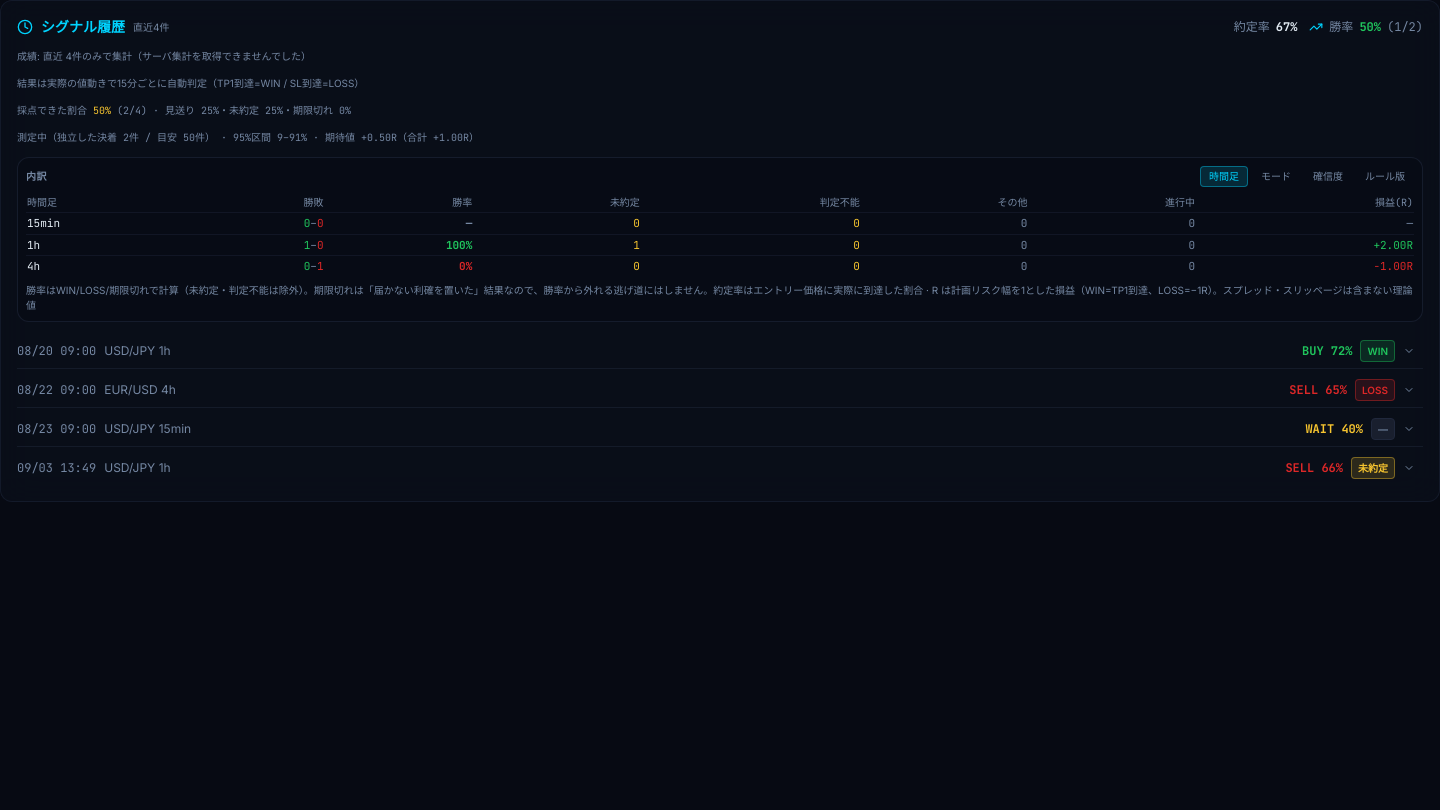
Scenario: AnalysisHistory (DB records) › does not promise a judgement for a WAIT row
Click the button "08/23 09:00 USD/JPY 15min WAIT 40% —".
click(57, 428)  # box [13,412,1419,446]
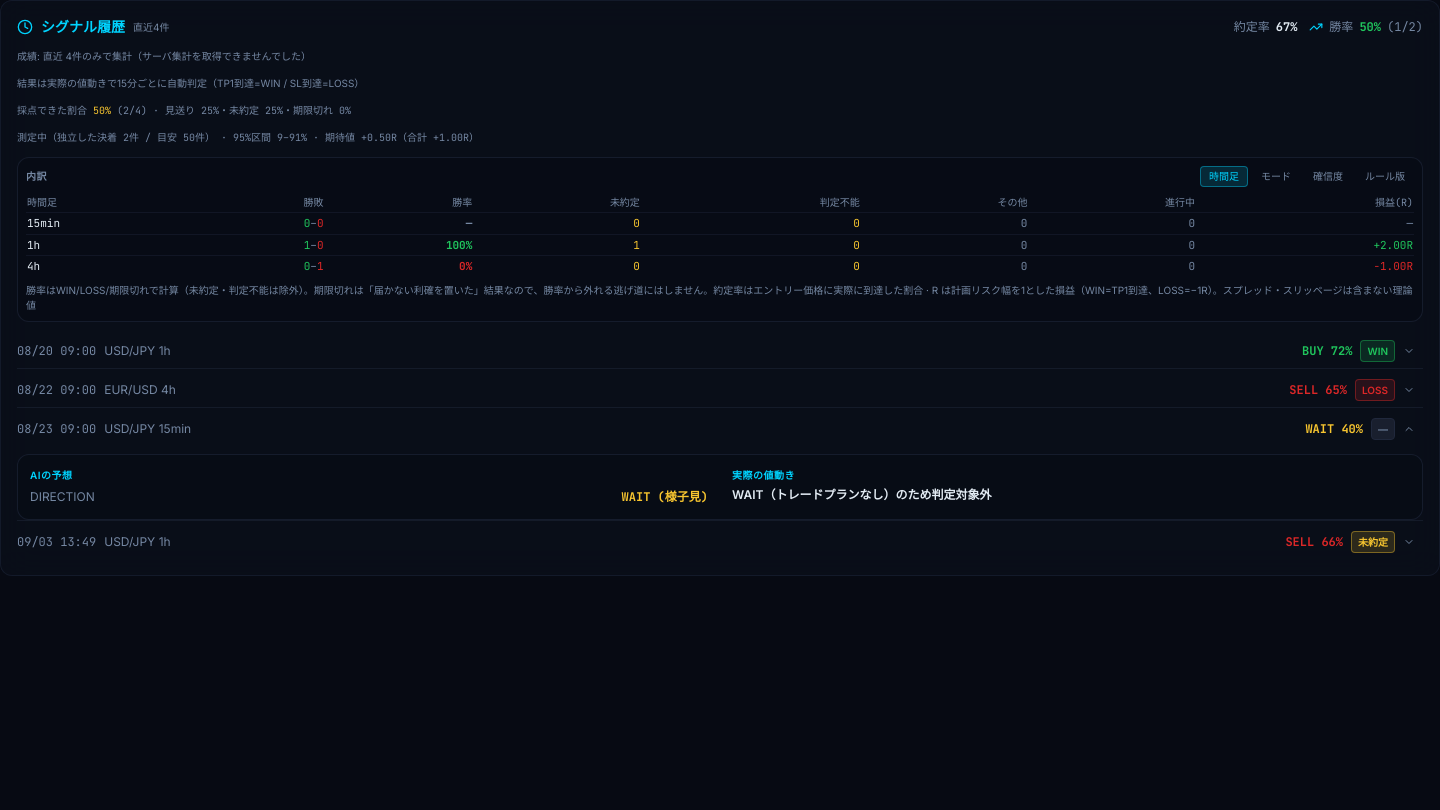
Check: the text "WAIT（トレードプランなし）のため判定対象外" is shown, box [732,486,991,502]
